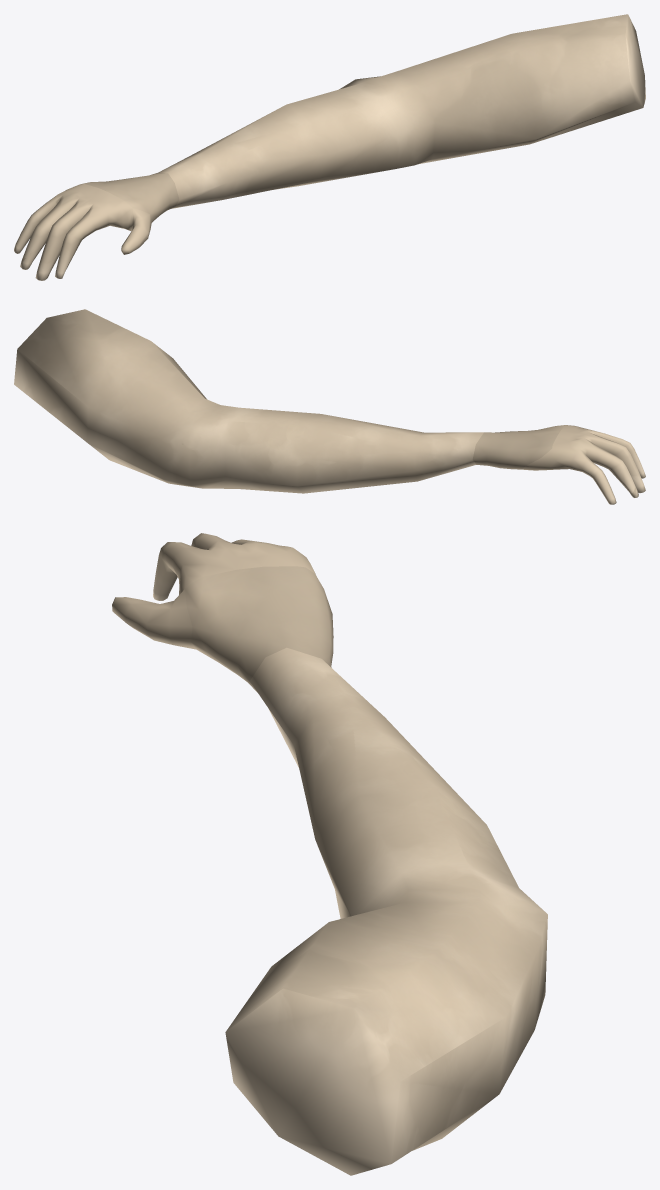
File: FParms_test.fbx
3 views of the same model, one above another, from view 1: azimuth 30°, elevation 25°; view 2: azimuth 150°, elevation 25°; view 3: azimuth 270°, elevation 25° (orthographic). The views are drawn at different scales.
Visible parts, largest first — view 1: Cylinder001; view 2: Cylinder001; view 3: Cylinder001.
Boxes of the visible parts, bbox=[...] form: Cylinder001: bbox=[14, 14, 645, 280]; Cylinder001: bbox=[14, 309, 645, 504]; Cylinder001: bbox=[112, 533, 547, 1175].
Bounding box in the file's own units: 80.6 × 14 × 26.
Materials: 1 (1 with a texture image).
